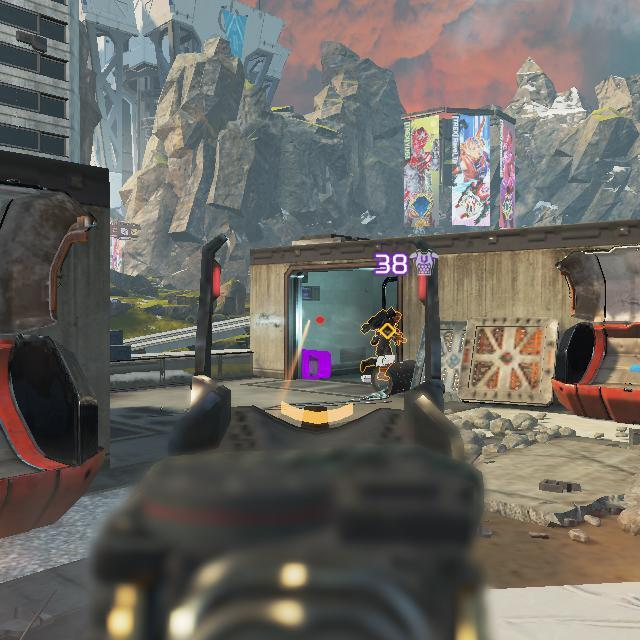avatar: (358, 307, 403, 382)
object: (378, 321, 398, 341)
